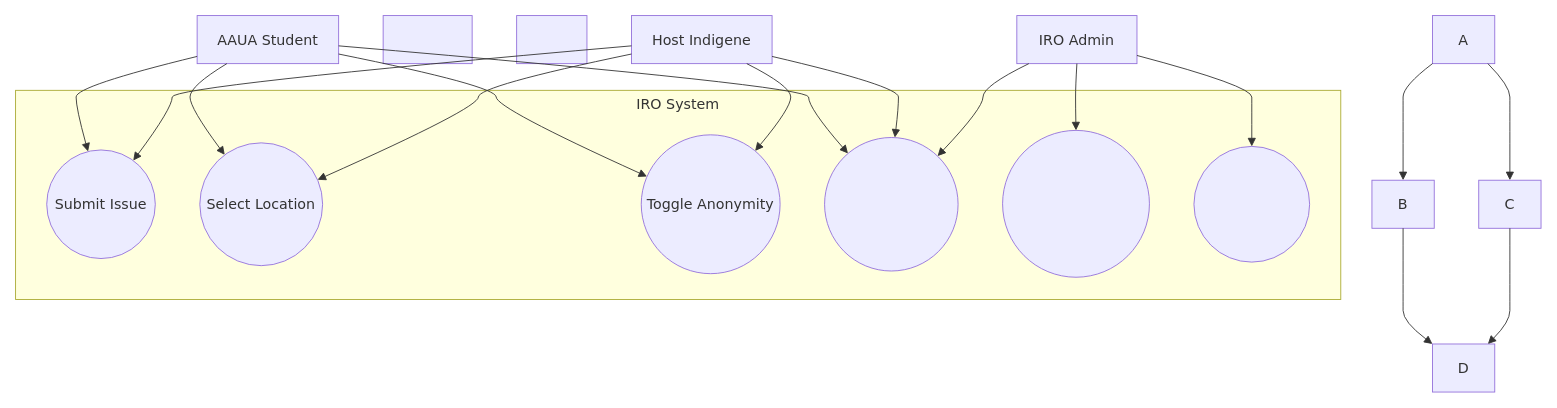
This 1557x408 diagram has some shape labels left out. Each missing label, with the centre of its shape:
"graph" goes at (427,39).
"LR" goes at (551,39).
"Review Complaints" goes at (1075,203).
"Update Status" goes at (1251,204).
"View Public Feed" goes at (891,204).
